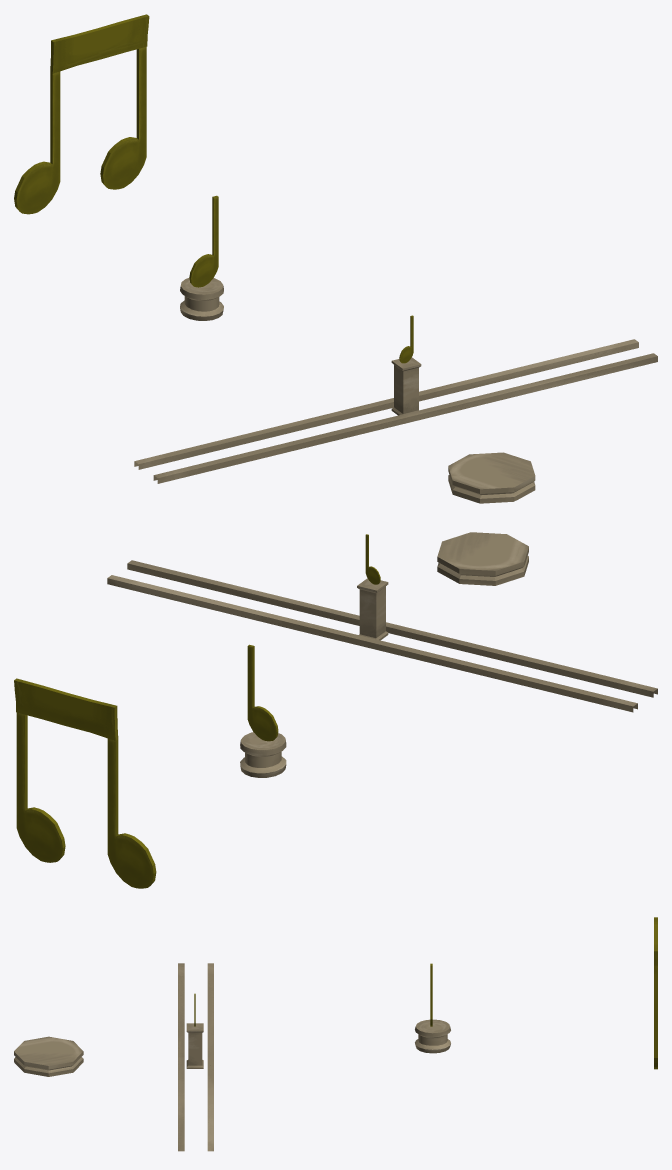
Rendered from Puzzle_Perspective_Blocks.fbx.
The picture shows the model from 3 angles, top to bottom: view 1: azimuth 30°, elevation 25°; view 2: azimuth 150°, elevation 25°; view 3: azimuth 270°, elevation 25°; orthographic projection. The views are drawn at different scales.
Visible parts, largest first — view 1: Reel 1.001, Camera Stand, Plane, Plane.001, Plane.002, Block 2.001, Block 3.001; view 2: Reel 1.001, Camera Stand, Plane, Plane.002, Plane.001, Block 2.001, Block 3.001; view 3: Reel 1.001, Camera Stand, Block 2.001, Block 3.001, Plane.002.
Part boxes in pixels (x1,y1,x2,y2): Reel 1.001: (134, 339, 657, 483); Camera Stand: (448, 452, 535, 503); Plane: (50, 14, 149, 73); Plane.001: (14, 71, 60, 214); Plane.002: (100, 47, 146, 189); Block 2.001: (180, 195, 223, 320); Block 3.001: (391, 315, 421, 415); Reel 1.001: (107, 560, 657, 712); Camera Stand: (437, 532, 528, 585); Plane: (14, 678, 118, 740); Plane.002: (16, 712, 65, 862); Plane.001: (107, 738, 156, 888); Block 2.001: (240, 644, 286, 777); Block 3.001: (357, 534, 388, 640); Reel 1.001: (178, 963, 213, 1151); Camera Stand: (14, 1036, 83, 1076); Block 2.001: (415, 963, 450, 1053); Block 3.001: (186, 993, 203, 1068); Plane.002: (654, 973, 657, 1069).
Bounding box in the file's own units: 1279 × 414 × 1852.
